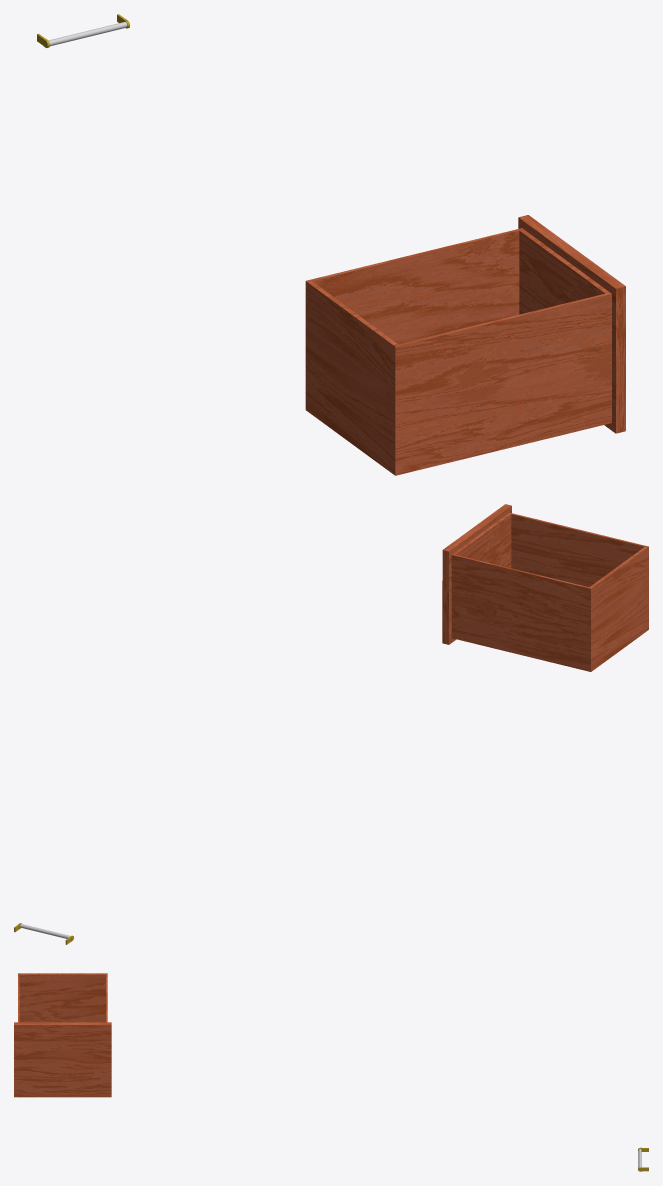
File: Drawer_50cb5dd7.obj
3 renders of one model, top to bottom at view 1: azimuth 30°, elevation 25°; view 2: azimuth 150°, elevation 25°; view 3: azimuth 270°, elevation 25°, orthographic. The views are drawn at different scales.
Parts seen in each view (by area): view 1: DrawerMesh_01_83c75742, handle_2_178mm_01_e754c808; view 2: DrawerMesh_01_83c75742; view 3: DrawerMesh_01_83c75742.
Part boxes in pixels (x1,y1,x2,y2): DrawerMesh_01_83c75742: [305, 215, 625, 475]; handle_2_178mm_01_e754c808: [37, 14, 129, 47]; DrawerMesh_01_83c75742: [442, 504, 648, 671]; DrawerMesh_01_83c75742: [14, 973, 111, 1097].
Size of the model in its own units: 0.7672 by 0.4773 by 2.38.
